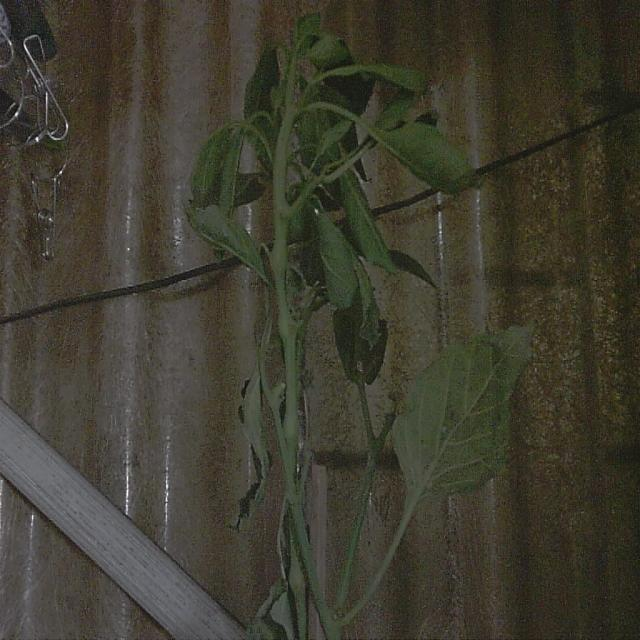Leaf: (391, 320, 533, 502), (376, 121, 481, 196), (231, 366, 274, 536)
